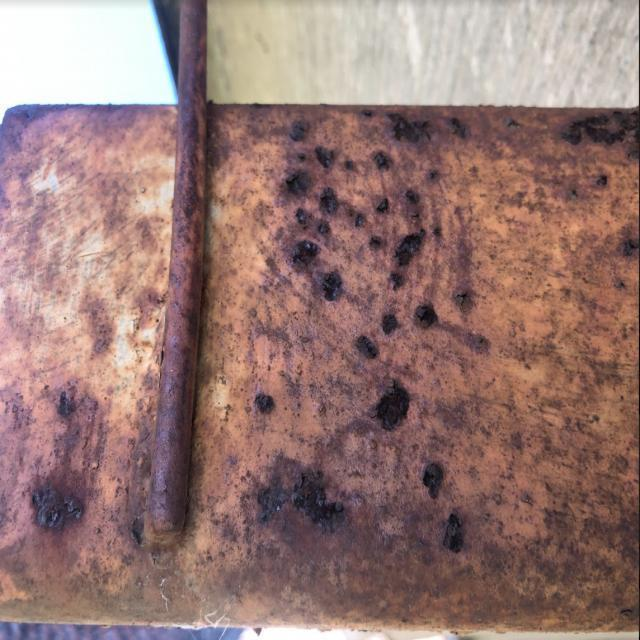Corrosion: (0, 99, 638, 631)
